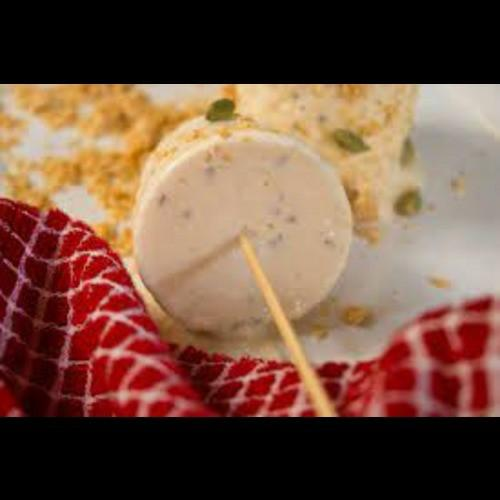Kulfi: (130, 111, 355, 335), (236, 84, 423, 234)
